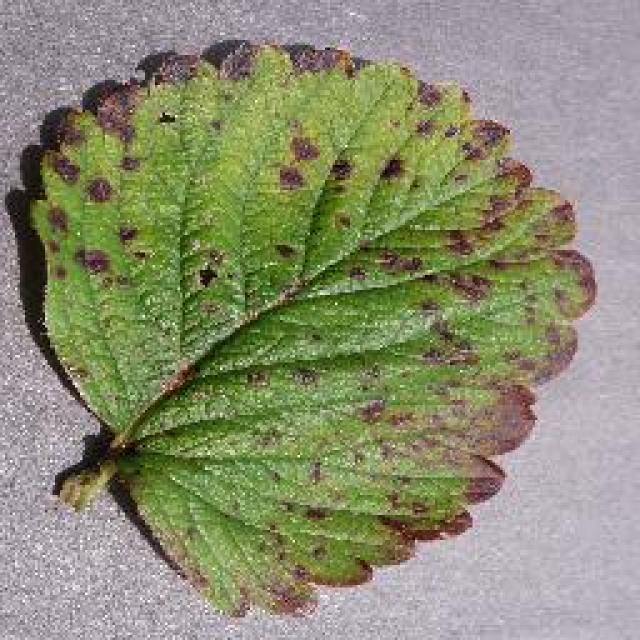Strawberry leaf scorch: (85, 95, 513, 518)
